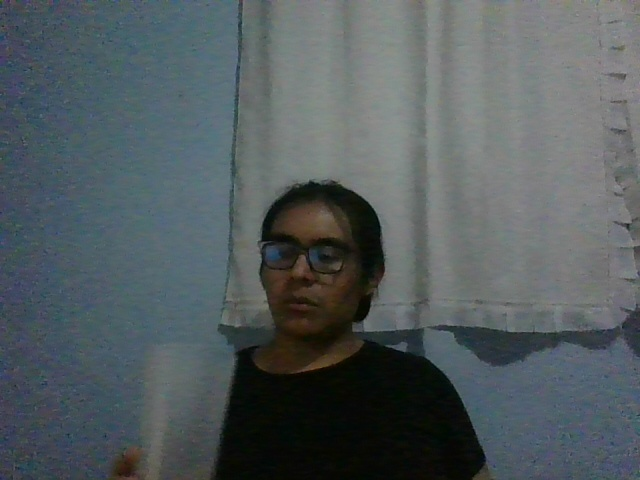vaso: (133, 344, 237, 480)
